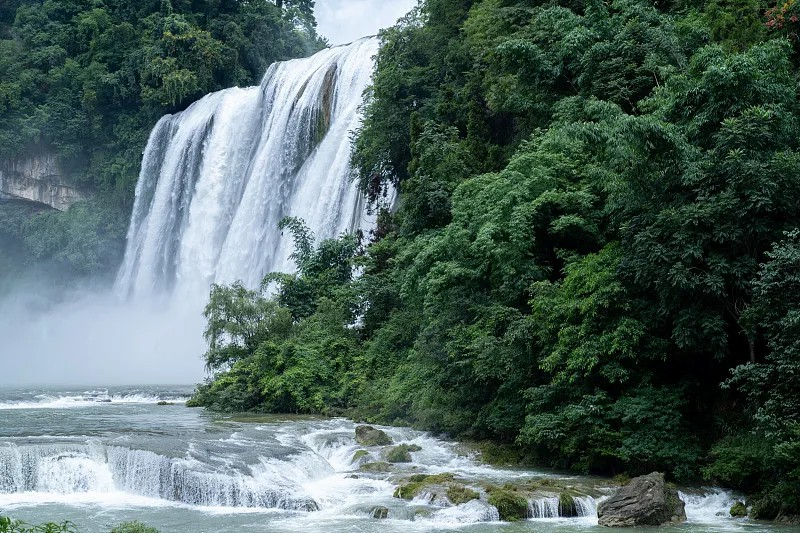Huangguoshu: (111, 31, 396, 353)
